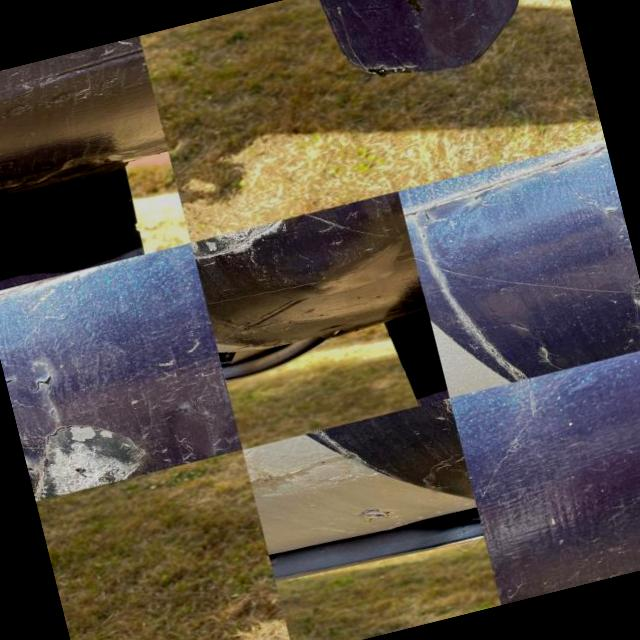crack: (578, 178, 622, 220), (26, 370, 59, 396)
dent: (288, 240, 419, 338), (20, 410, 150, 500)
